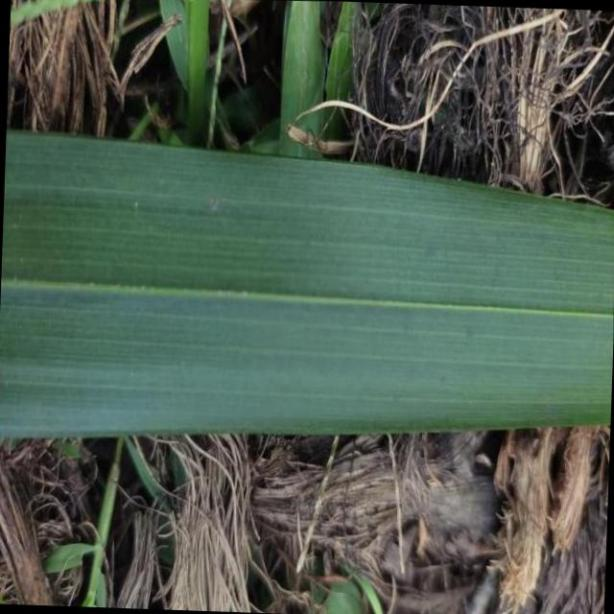Healthy: (1, 131, 614, 436)
